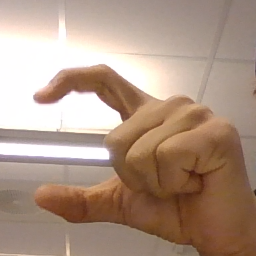C: (30, 61, 256, 242)
